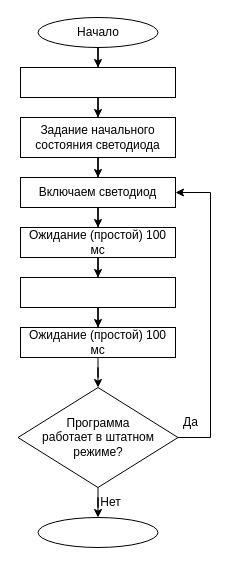
Image size: 236x565. Some labels were removed from this diagram. The shapes that lost their labels are listed below. From the top down, each one's centre as x and y in pixels, then its label:
point (98, 82): Настройка светодиода
point (98, 292): Выключаем светодиод
point (97, 532): Конец
